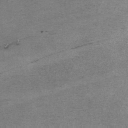finishing roll printing: (31, 42, 93, 64), (4, 40, 20, 49)
